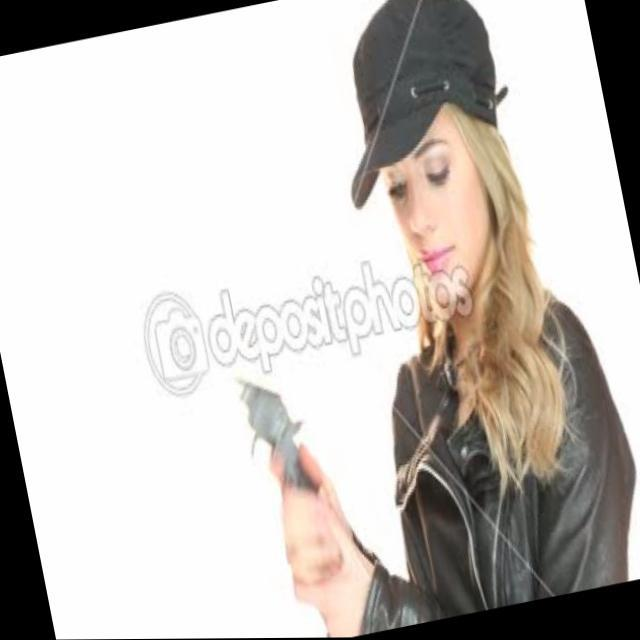weapon: (232, 362, 320, 505)
